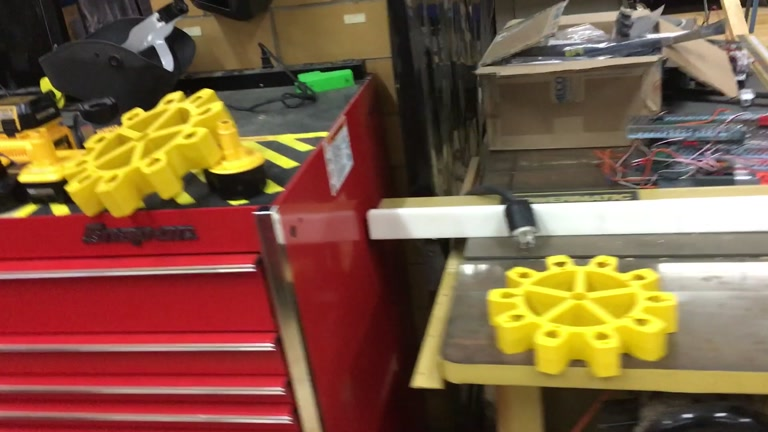gear: (484, 252, 678, 379), (63, 87, 237, 218)
